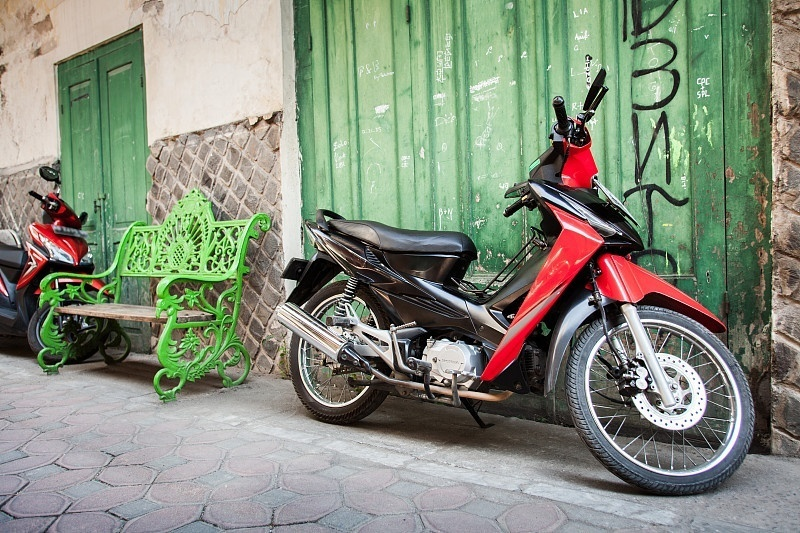non-vehicle: (278, 89, 749, 489), (5, 179, 100, 350)
